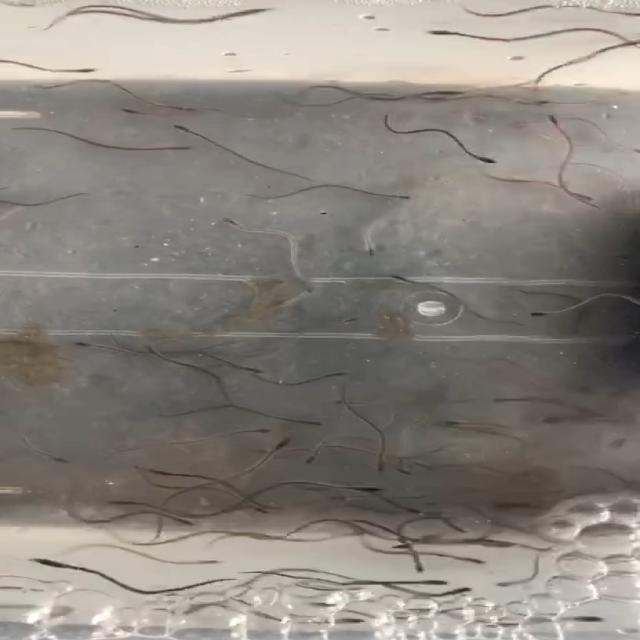active_glass_eel: (138, 139, 208, 162), (522, 109, 580, 131), (102, 105, 157, 127), (383, 188, 433, 212), (145, 461, 192, 485), (152, 510, 205, 530), (390, 269, 432, 294), (236, 0, 286, 20), (316, 612, 374, 629), (48, 451, 84, 476), (63, 336, 105, 357), (348, 243, 390, 264), (415, 26, 455, 48), (401, 576, 463, 590), (317, 368, 359, 388), (9, 556, 72, 569), (428, 418, 477, 434), (560, 611, 606, 628), (331, 313, 368, 334), (457, 156, 529, 166), (233, 364, 275, 381), (178, 558, 237, 570), (353, 481, 389, 500), (168, 121, 199, 143), (520, 306, 550, 328), (434, 585, 484, 598), (206, 215, 244, 231), (458, 555, 495, 570), (443, 523, 482, 537), (291, 453, 324, 469), (240, 503, 275, 518), (273, 434, 304, 450), (295, 414, 330, 428), (137, 340, 164, 358), (178, 101, 210, 116), (372, 454, 397, 473), (87, 518, 130, 529), (433, 88, 469, 100), (389, 466, 420, 479), (102, 496, 138, 507), (246, 424, 272, 439), (531, 95, 555, 111), (410, 560, 430, 578), (395, 504, 420, 518), (387, 541, 413, 553), (534, 416, 565, 426), (578, 194, 602, 206), (70, 68, 102, 77), (495, 582, 515, 592)
